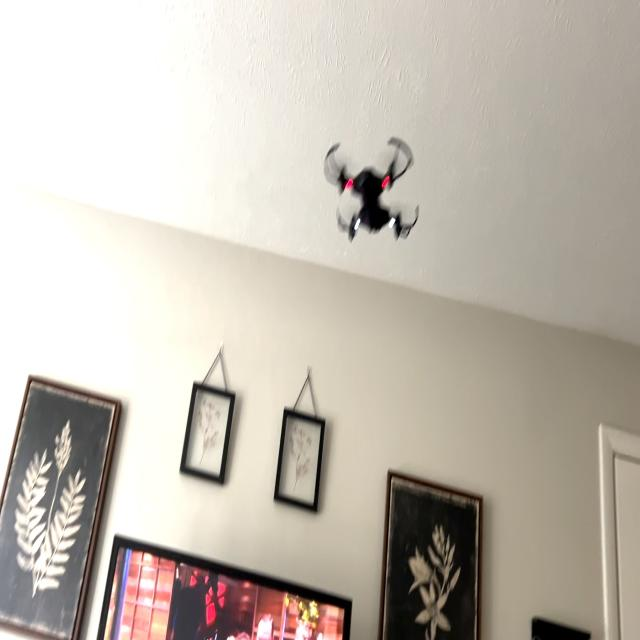drone: (316, 113, 430, 266)
